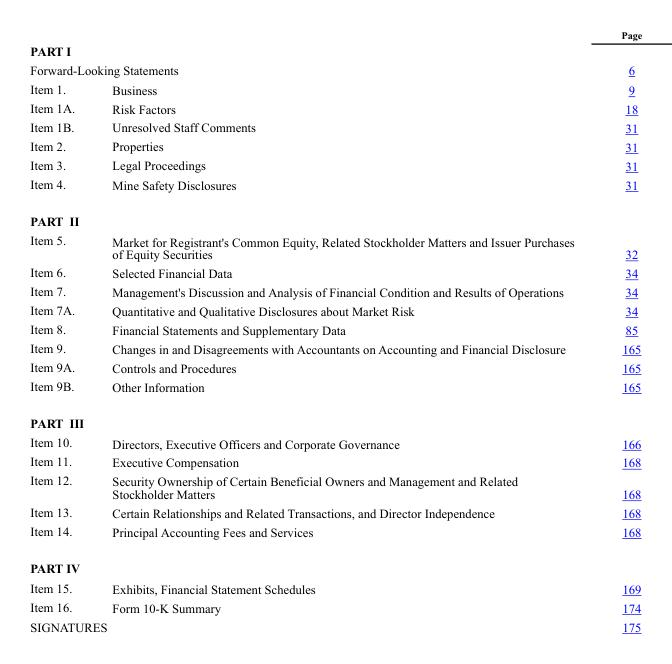table: (29, 28, 641, 633)
table column: (92, 28, 597, 633), (29, 28, 92, 633), (597, 28, 641, 633)
table column header: (29, 28, 641, 41)
table projected row header: (29, 202, 641, 230), (29, 404, 641, 432), (29, 549, 641, 577), (29, 41, 641, 60)
table row: (29, 230, 641, 262), (29, 471, 641, 502), (29, 174, 641, 202), (29, 202, 641, 230), (29, 376, 641, 404), (29, 404, 641, 432), (29, 521, 641, 549), (29, 549, 641, 577), (29, 432, 641, 452), (29, 577, 641, 597), (29, 41, 641, 60), (29, 60, 641, 79), (29, 79, 641, 98), (29, 98, 641, 117), (29, 117, 641, 136), (29, 136, 641, 155), (29, 155, 641, 174), (29, 262, 641, 281), (29, 281, 641, 300), (29, 300, 641, 319), (29, 319, 641, 338), (29, 338, 641, 357), (29, 357, 641, 376), (29, 452, 641, 471), (29, 502, 641, 521), (29, 597, 641, 616), (29, 616, 641, 633), (29, 28, 641, 41)
table spanning cell: (29, 60, 597, 79), (29, 616, 597, 633)
